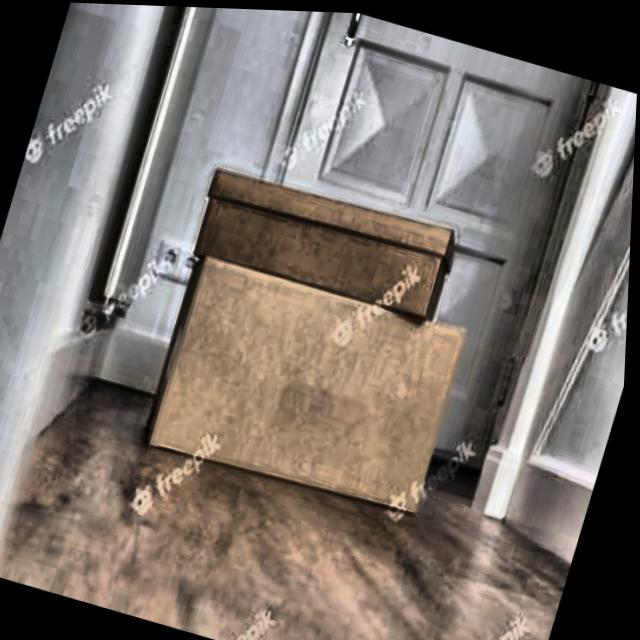Cardbox: (130, 249, 480, 526), (173, 149, 494, 335)
